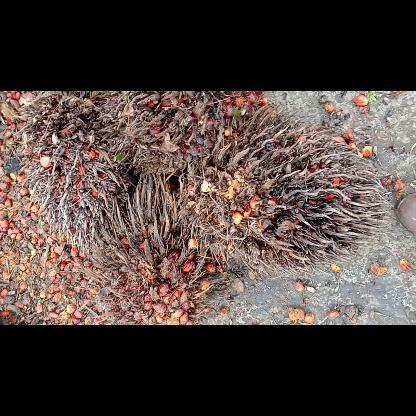Terlalu masak: (174, 102, 396, 278), (81, 172, 235, 324), (10, 91, 140, 256), (96, 90, 278, 182)
